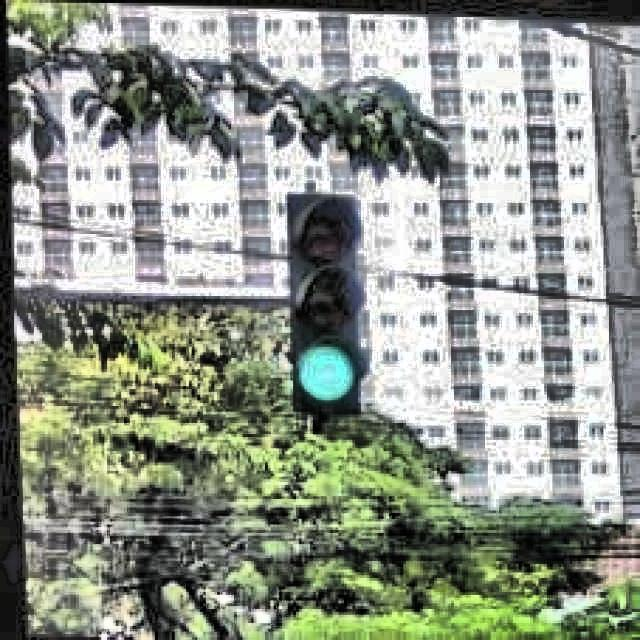green: (284, 190, 368, 416)
